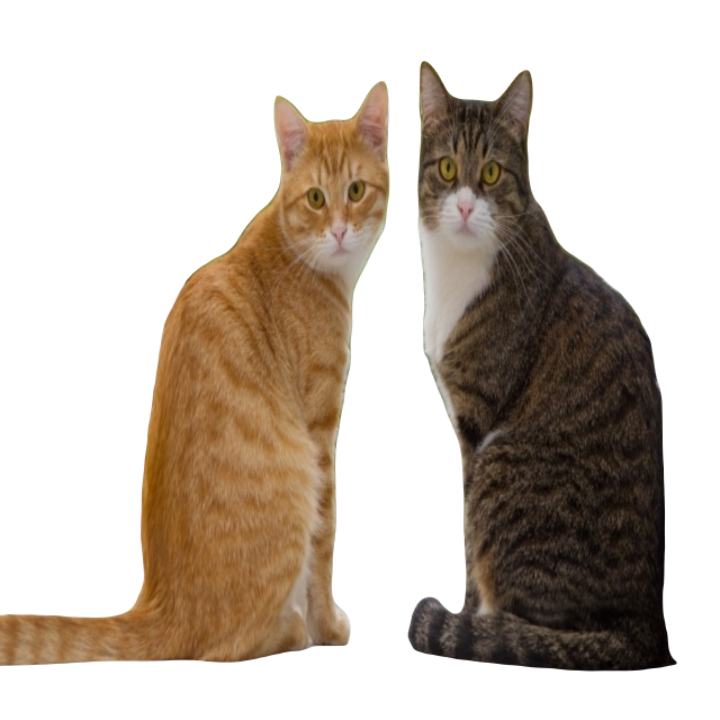Cat: (7, 70, 390, 672), (405, 54, 681, 678)
